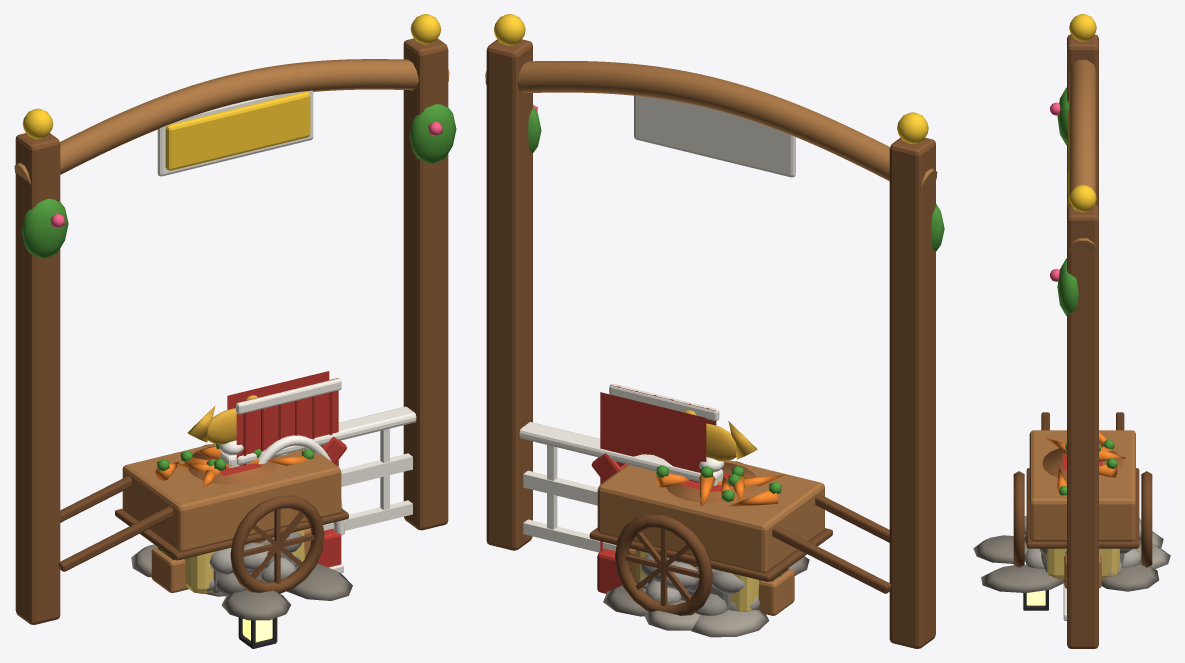
The model's file is gard.glb.
3 renders of one model, left to right at view 1: azimuth 30°, elevation 25°; view 2: azimuth 150°, elevation 25°; view 3: azimuth 270°, elevation 25°, orthographic. The views are drawn at different scales.
Parts seen in each view (by area): view 1: portbue, kjerre, bue, heller, rekk_list, rekkverk, stolpe_fot, blomsterkasse, vaerhane, hoyball_firk, tonne, lykt (+1 smaller); view 2: portbue, kjerre, bue, heller, rekk_list, rekkverk, stolpe_fot, blomsterkasse, vaerhane, tonne, hoyball_firk, bjelke; view 3: portbue, kjerre, heller, hoyball_firk, stolpe_fot, tonne, lykt.
Part boxes in pixels (box(x1,y1,x2,y2)): portbue: box(14, 14, 456, 624); kjerre: box(58, 443, 348, 593); bue: box(227, 371, 344, 535); heller: box(131, 544, 352, 620); rekk_list: box(237, 406, 416, 486); rekkverk: box(281, 428, 412, 530); stolpe_fot: box(206, 531, 301, 595); blomsterkasse: box(151, 528, 311, 592); vaerhane: box(187, 395, 257, 444); hoyball_firk: box(184, 530, 304, 593); tonne: box(187, 446, 276, 572); lykt: box(238, 617, 277, 648); portbue: box(485, 14, 944, 648); kjerre: box(589, 460, 891, 615); bue: box(600, 384, 719, 551); heller: box(603, 556, 809, 637); rekk_list: box(519, 422, 700, 505); rekkverk: box(523, 445, 656, 552); stolpe_fot: box(635, 551, 761, 615); blomsterkasse: box(628, 548, 794, 615); vaerhane: box(684, 410, 757, 461); tonne: box(666, 462, 756, 594); hoyball_firk: box(635, 550, 759, 611); bjelke: box(597, 548, 622, 593); portbue: box(1050, 14, 1098, 648); kjerre: box(1013, 412, 1152, 567); heller: box(973, 531, 1170, 592); hoyball_firk: box(1046, 548, 1119, 580); stolpe_fot: box(1024, 515, 1141, 576); tonne: box(1042, 448, 1123, 479); lykt: box(1023, 590, 1048, 610).
Bounding box in the file's own units: 4.22 × 5.24 × 1.86.
